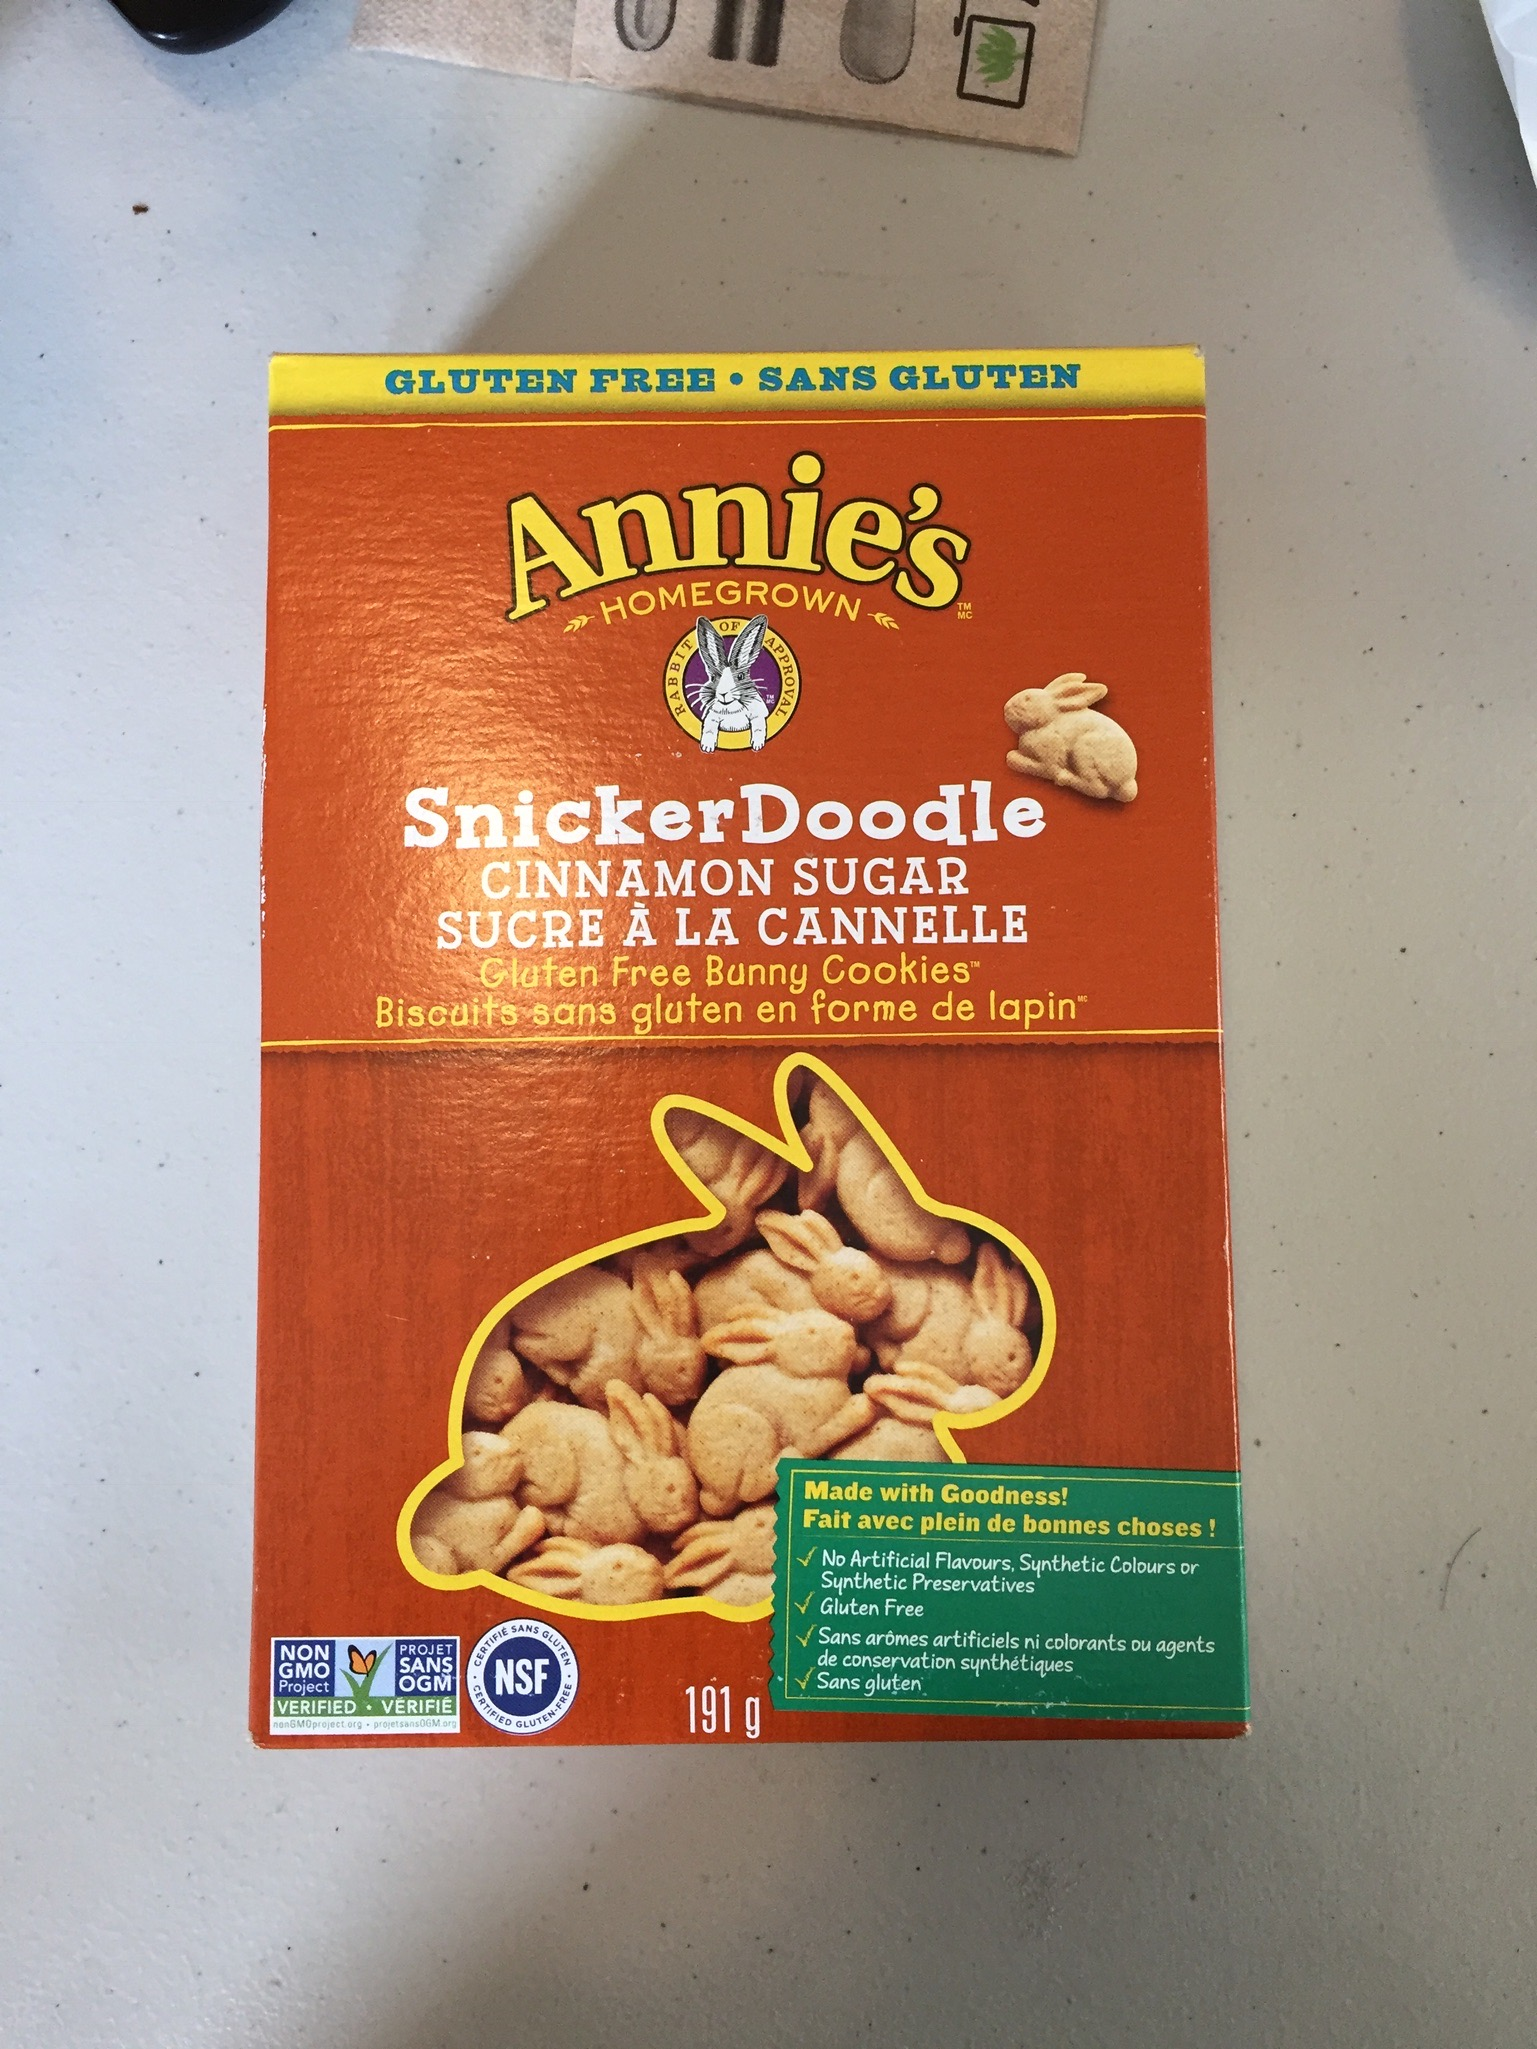annies_snickerdoodle_cinnamon_sugar: (283, 363, 1235, 1737)
